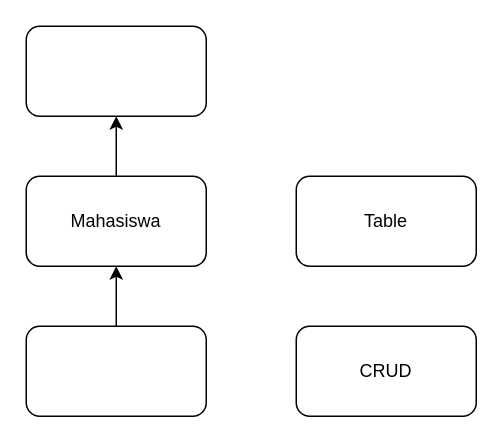
Some shapes in this 503 by 443 pixel diagram are drawn without their labels. Here are the shapes that lost their labels. From the top down, the box of each, then its label:
(25, 25, 206, 116): Human
(25, 325, 206, 416): SivitasAkademik
